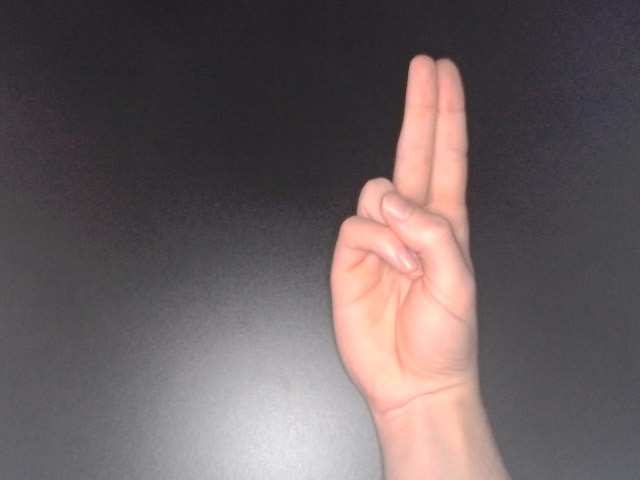r: (322, 50, 489, 427)
